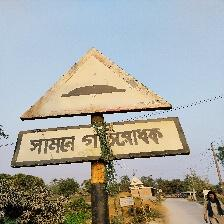Speed-breaker: (16, 52, 192, 168)
